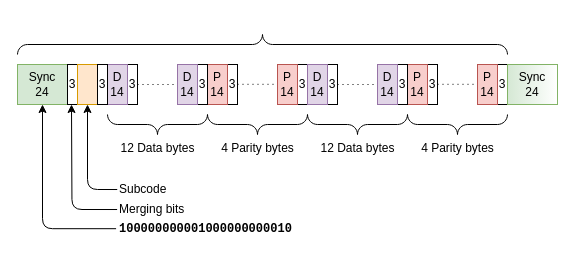
The diagram is 575 pixels wide and 262 high, and some of its shapes have lost their labels. The shapes that lost their labels are listed below. From the top down, each one's box as (x1, y1, x2, y2) in pixels, then its label:
(16, 34, 508, 54): Frame: 588 channel bits
(76, 64, 98, 104): C 14
